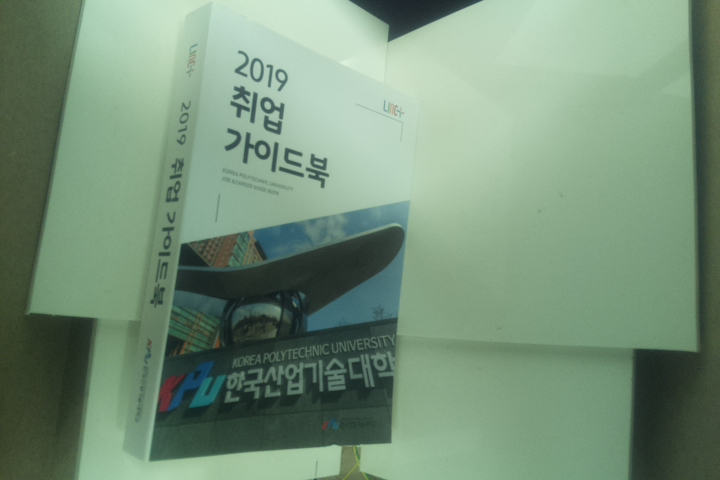book: (120, 1, 423, 464)
